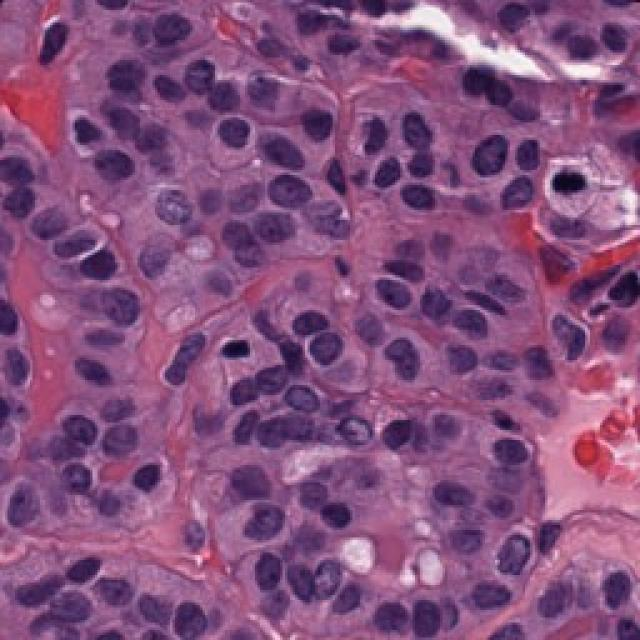abnormal: (12, 173, 93, 265), (274, 533, 354, 617), (471, 515, 546, 600), (71, 270, 161, 338), (460, 112, 528, 200), (220, 494, 308, 558), (448, 120, 522, 192), (477, 518, 540, 602), (320, 399, 395, 469), (376, 327, 441, 403), (78, 132, 147, 203), (257, 158, 330, 225), (0, 472, 55, 560), (135, 172, 202, 238), (40, 385, 110, 448), (234, 192, 298, 260), (282, 373, 346, 440), (192, 107, 260, 170), (85, 402, 143, 475), (363, 253, 422, 317), (420, 475, 490, 527), (393, 182, 455, 230)
